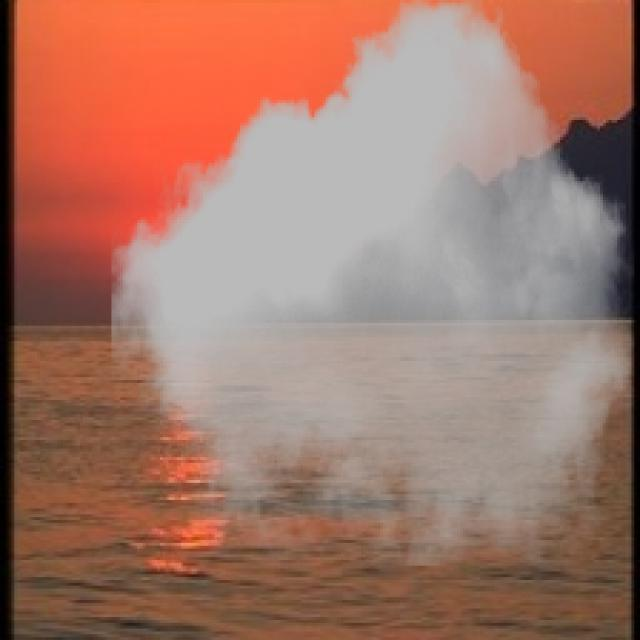Smoke: (111, 0, 634, 566)
